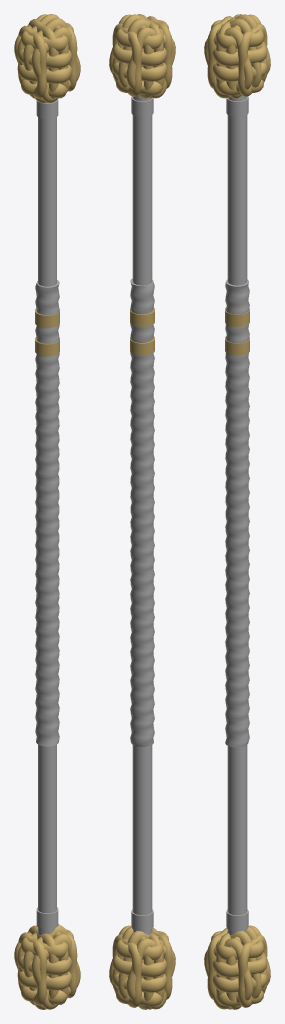
The model's file is fire-double-staff.glb.
The picture shows the model from 3 angles, left to right: view 1: azimuth 30°, elevation 25°; view 2: azimuth 210°, elevation 25°; view 3: azimuth 330°, elevation 25°; orthographic projection.
Visible parts, largest first — view 1: TKA_FireStaff_Metal, TKA_FireStaff_Wicks; view 2: TKA_FireStaff_Metal, TKA_FireStaff_Wicks; view 3: TKA_FireStaff_Metal, TKA_FireStaff_Wicks.
Boxes of the visible parts, x1,y1,x2,y2 form: TKA_FireStaff_Metal: (35, 99, 59, 934); TKA_FireStaff_Wicks: (14, 14, 80, 1009); TKA_FireStaff_Metal: (130, 95, 154, 934); TKA_FireStaff_Wicks: (109, 14, 175, 1009); TKA_FireStaff_Metal: (225, 95, 249, 934); TKA_FireStaff_Wicks: (204, 14, 270, 1009).
Bounding box in the file's own units: 0.0534 × 0.9 × 0.0534.
